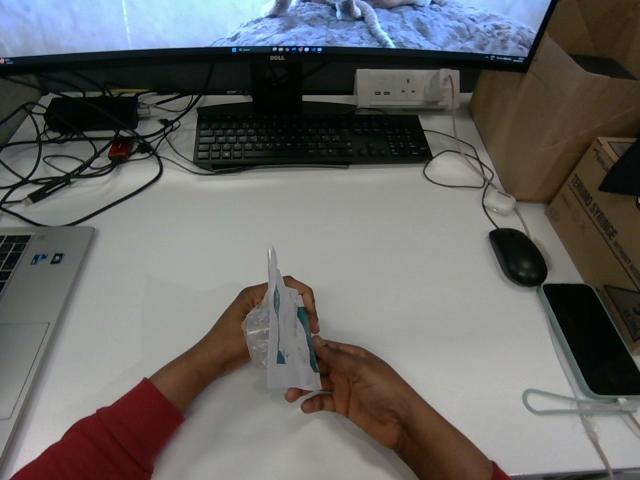gallipot: (242, 248, 320, 389), (241, 293, 269, 368)
